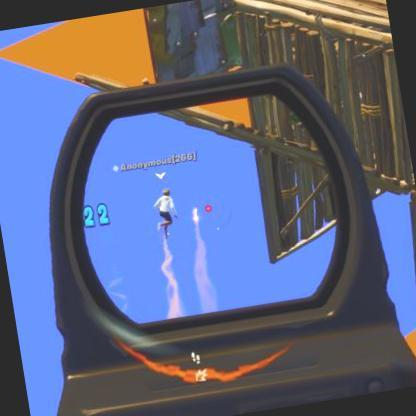person: (154, 182, 181, 230)
